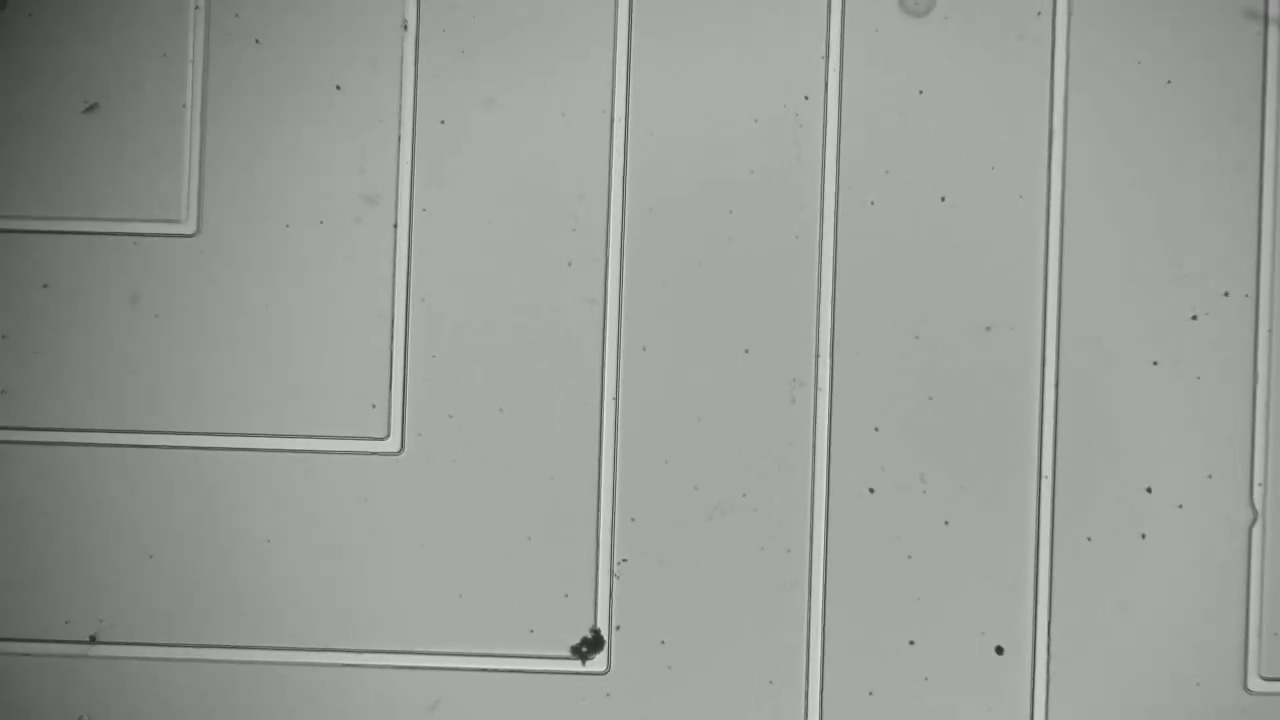edge_bite: (1241, 494, 1272, 540)
